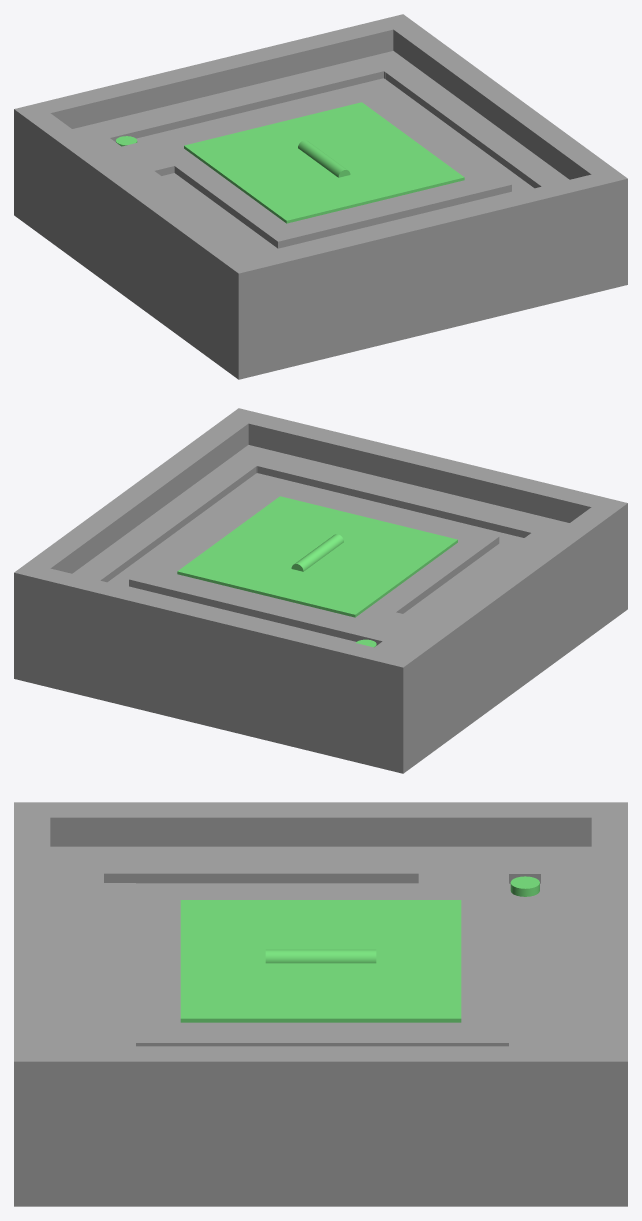
File: obj_Box_with_slidable_schijfje.fbx
3 views of the same model, one above another, from view 1: azimuth 30°, elevation 25°; view 2: azimuth 150°, elevation 25°; view 3: azimuth 270°, elevation 25° (orthographic). The views are drawn at different scales.
Parts seen in each view (by area): view 1: Box_with_slidable_schijfje, rotatable_plank; view 2: Box_with_slidable_schijfje, rotatable_plank; view 3: Box_with_slidable_schijfje, rotatable_plank.
Boxes of the visible parts, bbox=[...] form: Box_with_slidable_schijfje: bbox=[14, 14, 627, 379]; rotatable_plank: bbox=[184, 102, 464, 223]; Box_with_slidable_schijfje: bbox=[14, 408, 627, 773]; rotatable_plank: bbox=[177, 496, 457, 617]; Box_with_slidable_schijfje: bbox=[14, 802, 627, 1206]; rotatable_plank: bbox=[180, 900, 461, 1022].
Bounding box in the file's own units: 3.83 × 1 × 3.83.
